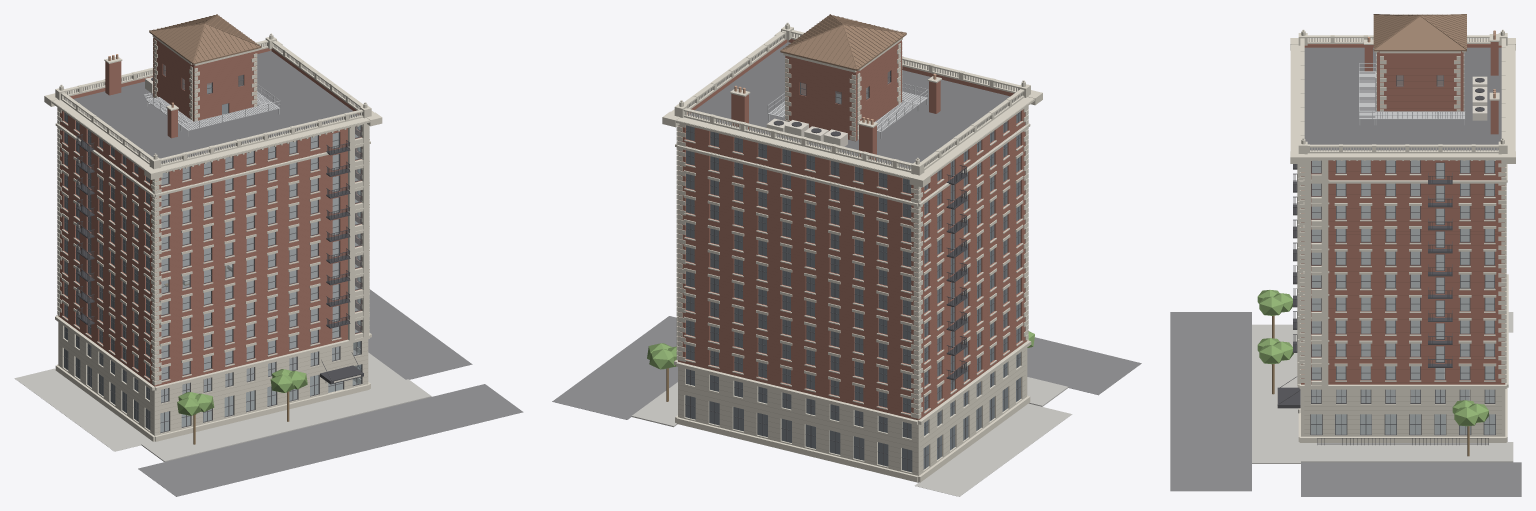
Rendered from clay-prewar-apartment-tower-clay-v003.glb.
3 renders of one model, left to right at view 1: azimuth 30°, elevation 25°; view 2: azimuth 150°, elevation 25°; view 3: azimuth 270°, elevation 25°, orthographic. The views are drawn at different scales.
Visible parts, largest first — view 1: CLAY_WALL, CLAY_STONE, CLAY_ASPHALT, CLAY_GLASS, CLAY_TRIM, CLAY_CONCRETE, CLAY_MEMBRANE, CLAY_FLOOR, CLAY_HARDWARE, CLAY_COPPER, CLAY_PALE, CLAY_STONEJOINT (+3 smaller); view 2: CLAY_WALL, CLAY_STONE, CLAY_TRIM, CLAY_GLASS, CLAY_ASPHALT, CLAY_MEMBRANE, CLAY_CONCRETE, CLAY_COPPER, CLAY_PALE, CLAY_HARDWARE, CLAY_STONEJOINT, CLAY_GRATING (+1 smaller); view 3: CLAY_WALL, CLAY_STONE, CLAY_ASPHALT, CLAY_GLASS, CLAY_MEMBRANE, CLAY_FLOOR, CLAY_CONCRETE, CLAY_TRIM, CLAY_HARDWARE, CLAY_COPPER, CLAY_JOINT, CLAY_PLANTING (+4 smaller).
Boxes of the visible parts, box(x1,y1,x2,y2) form: CLAY_WALL: box(58, 37, 361, 386); CLAY_STONE: box(44, 33, 382, 441); CLAY_ASPHALT: box(138, 289, 523, 496); CLAY_GLASS: box(64, 65, 361, 431); CLAY_TRIM: box(63, 64, 362, 433); CLAY_CONCRETE: box(14, 352, 431, 461); CLAY_MEMBRANE: box(73, 51, 358, 163); CLAY_FLOOR: box(161, 133, 358, 402); CLAY_HARDWARE: box(76, 77, 363, 384); CLAY_COPPER: box(149, 14, 261, 64); CLAY_PALE: box(64, 43, 361, 383); CLAY_STONEJOINT: box(60, 325, 367, 432); CLAY_WALL: box(678, 39, 1027, 420); CLAY_STONE: box(662, 22, 1042, 482); CLAY_TRIM: box(685, 70, 1021, 472); CLAY_GLASS: box(685, 71, 1020, 472); CLAY_ASPHALT: box(552, 316, 1141, 419); CLAY_MEMBRANE: box(689, 42, 1009, 168); CLAY_CONCRETE: box(631, 377, 1072, 496); CLAY_COPPER: box(780, 14, 906, 70); CLAY_PALE: box(685, 33, 1022, 169); CLAY_HARDWARE: box(769, 92, 967, 380); CLAY_STONEJOINT: box(678, 350, 1025, 472); CLAY_GRATING: box(767, 83, 928, 138); CLAY_WALL: box(1301, 42, 1505, 384); CLAY_STONE: box(1290, 29, 1515, 442); CLAY_ASPHALT: box(1170, 312, 1521, 496); CLAY_GLASS: box(1311, 75, 1495, 434); CLAY_MEMBRANE: box(1304, 47, 1501, 150); CLAY_FLOOR: box(1311, 160, 1494, 402); CLAY_CONCRETE: box(1252, 312, 1513, 463); CLAY_TRIM: box(1310, 75, 1495, 435); CLAY_HARDWARE: box(1277, 72, 1488, 444); CLAY_COPPER: box(1373, 14, 1466, 51); CLAY_JOINT: box(1328, 68, 1501, 382); CLAY_PLANTING: box(1257, 290, 1488, 426).
Bounding box in the file's own units: 53.6 × 50.31 × 43.
